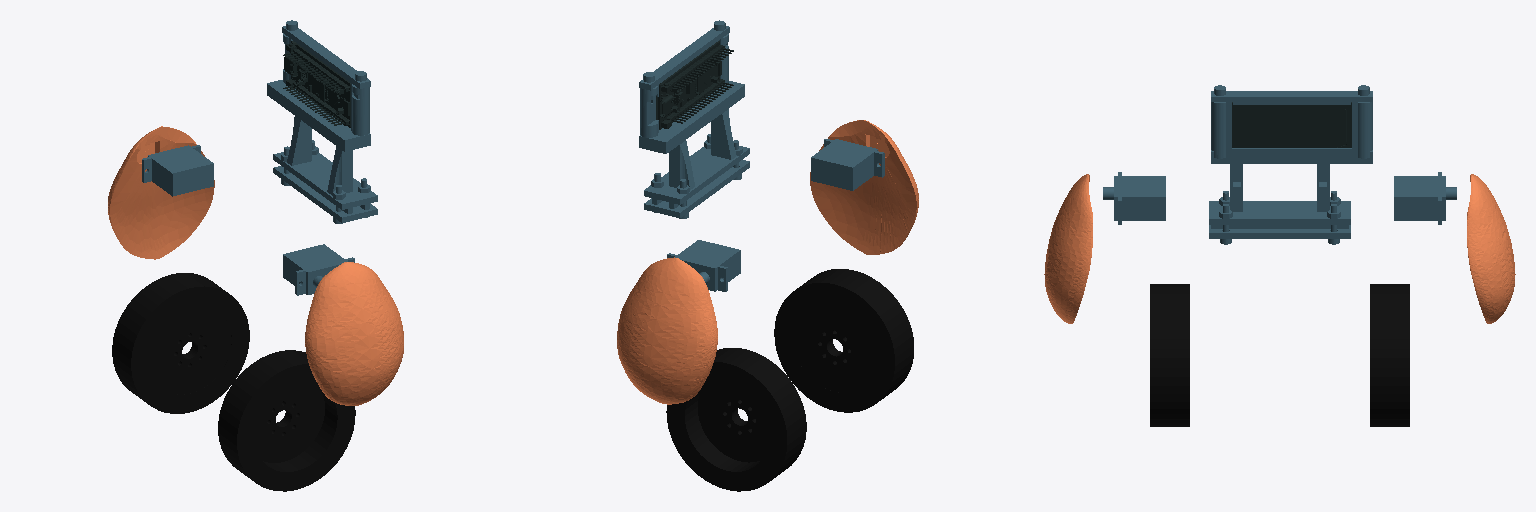
The robot description file, URDF, robot "orbo_v9_internal":
<?xml version='1.0' encoding='utf-8'?>
<robot name="orbo_v9_internal">
  <link name="base_link" />
  <link name="cad_chassis_and_equipment">
    <visual>
      <geometry>
        <mesh filename="package://orbo_description/meshes/v9/chassis_and_equipment.stl" scale="0.001 0.001 0.001" />
      </geometry>
      <material name="chassis_and_equipment_material">
        <color rgba=".30 .43 .49 1" />
      </material>
    </visual>
  </link>
  <joint name="cad_chassis_and_equipment_mount" type="fixed">
    <parent link="base_link" />
    <child link="cad_chassis_and_equipment" />
  </joint>
  <link name="cad_display_module">
    <visual>
      <geometry>
        <mesh filename="package://orbo_description/meshes/v9/display_module.stl" scale="0.001 0.001 0.001" />
      </geometry>
      <material name="display_module_material">
        <color rgba=".15 .2 .2 1" />
      </material>
    </visual>
  </link>
  <joint name="cad_display_module_mount" type="fixed">
    <parent link="base_link" />
    <child link="cad_display_module" />
  </joint>
  <link name="cad_display_mount">
    <visual>
      <geometry>
        <mesh filename="package://orbo_description/meshes/v9/display_mount.stl" scale="0.001 0.001 0.001" />
      </geometry>
      <material name="display_mount_material">
        <color rgba=".30 .43 .49 1" />
      </material>
    </visual>
  </link>
  <joint name="cad_display_mount_mount" type="fixed">
    <parent link="base_link" />
    <child link="cad_display_mount" />
  </joint>
  <link name="cad_flipper_covers">
    <visual>
      <geometry>
        <mesh filename="package://orbo_description/meshes/v9/flipper_covers.stl" scale="0.001 0.001 0.001" />
      </geometry>
      <material name="flipper_covers_material">
        <color rgba=".95 .56 .37 1" />
      </material>
    </visual>
  </link>
  <joint name="cad_flipper_covers_mount" type="fixed">
    <parent link="base_link" />
    <child link="cad_flipper_covers" />
  </joint>
  <link name="cad_left_wheel">
    <visual>
      <geometry>
        <mesh filename="package://orbo_description/meshes/v9/left_wheel.stl" scale="0.001 0.001 0.001" />
      </geometry>
      <material name="left_wheel_material">
        <color rgba=".1 .1 .1 1" />
      </material>
    </visual>
  </link>
  <joint name="cad_left_wheel_mount" type="fixed">
    <parent link="base_link" />
    <child link="cad_left_wheel" />
    <origin xyz="0 0.0509 0" />
  </joint>
  <link name="cad_right_wheel">
    <visual>
      <geometry>
        <mesh filename="package://orbo_description/meshes/v9/right_wheel.stl" scale="0.001 0.001 0.001" />
      </geometry>
      <material name="right_wheel_material">
        <color rgba=".1 .1 .1 1" />
      </material>
    </visual>
  </link>
  <joint name="cad_right_wheel_mount" type="fixed">
    <parent link="base_link" />
    <child link="cad_right_wheel" />
    <origin xyz="0 -0.0509 0" />
  </joint>
  <link name="cad_servos">
    <visual>
      <geometry>
        <mesh filename="package://orbo_description/meshes/v9/servos.stl" scale="0.001 0.001 0.001" />
      </geometry>
      <material name="servos_material">
        <color rgba=".30 .43 .49 1" />
      </material>
    </visual>
  </link>
  <joint name="cad_servos_mount" type="fixed">
    <parent link="base_link" />
    <child link="cad_servos" />
  </joint>
</robot>

--- What the picture shows (computed from the rendered views, not written in the file) ---
The picture shows the robot from 3 angles, left to right: view 1: azimuth 30°, elevation 25°; view 2: azimuth 150°, elevation 25°; view 3: azimuth 270°, elevation 25°; orthographic projection.
Model orbo_v9_internal with 8 links and 7 joints (7 fixed), rooted at base_link, posed every joint at zero.
Visible links, largest first — view 1: cad_flipper_covers, cad_left_wheel, cad_right_wheel, cad_display_mount, cad_servos, cad_display_module; view 2: cad_flipper_covers, cad_right_wheel, cad_left_wheel, cad_display_mount, cad_servos, cad_display_module; view 3: cad_display_mount, cad_flipper_covers, cad_left_wheel, cad_right_wheel, cad_display_module, cad_servos.
Boxes of the visible links, x1,y1,x2,y2 form: cad_flipper_covers: [108, 126, 403, 405]; cad_left_wheel: [112, 273, 249, 413]; cad_right_wheel: [218, 350, 355, 491]; cad_display_mount: [267, 20, 377, 223]; cad_servos: [142, 145, 354, 295]; cad_display_module: [283, 41, 350, 127]; cad_flipper_covers: [617, 120, 918, 404]; cad_right_wheel: [774, 269, 913, 412]; cad_left_wheel: [666, 348, 806, 491]; cad_display_mount: [639, 20, 749, 218]; cad_servos: [667, 139, 884, 291]; cad_display_module: [656, 41, 733, 129]; cad_display_mount: [1209, 85, 1372, 244]; cad_flipper_covers: [1044, 174, 1515, 323]; cad_left_wheel: [1370, 284, 1409, 426]; cad_right_wheel: [1150, 284, 1189, 426]; cad_display_module: [1232, 102, 1351, 147]; cad_servos: [1103, 172, 1456, 224].
Size in the robot's own frame: 0.0939 by 0.2181 by 0.1952 metres.
6 mesh visuals loaded from 7 distinct referenced files (6 binary STL); not drawn: 1 (reference not matched to a file when rendering).
